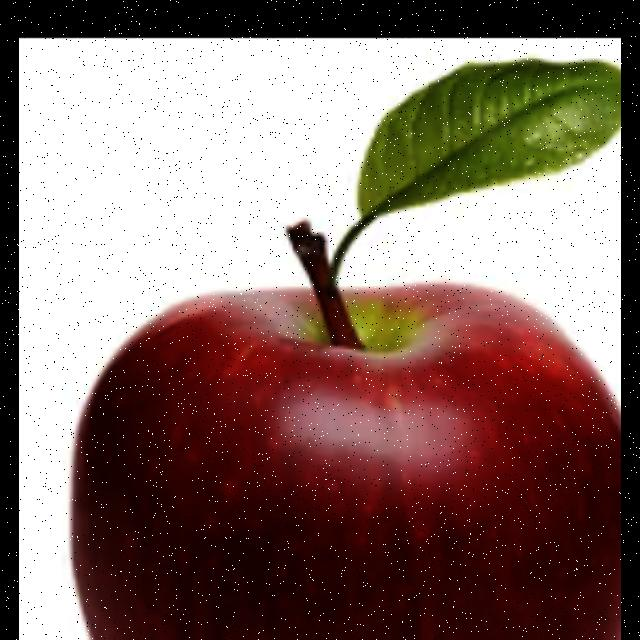Apel Segar: (71, 282, 621, 640)
